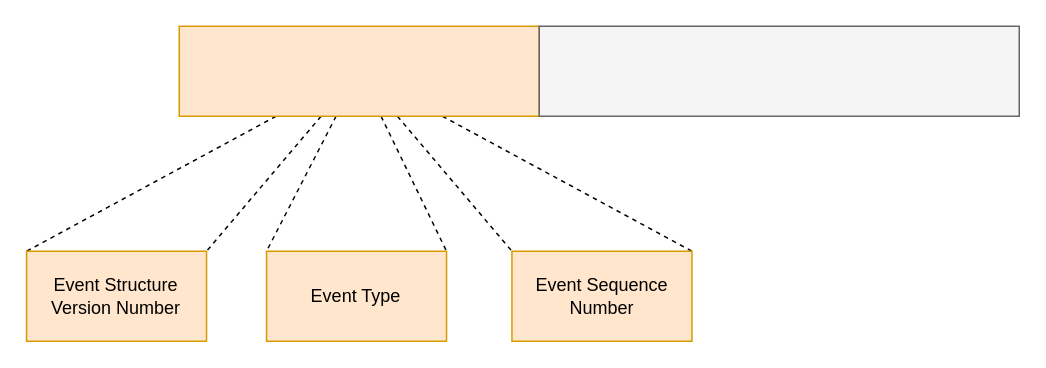
Some shapes in this 1046 by 368 pixel diagram are drawn without their labels. The shapes that lost their labels are listed below. From the top down, each one's centre as x and y in pixels, then its label:
At point 358,70: "Event Header".
At point 778,70: "Event Body".
